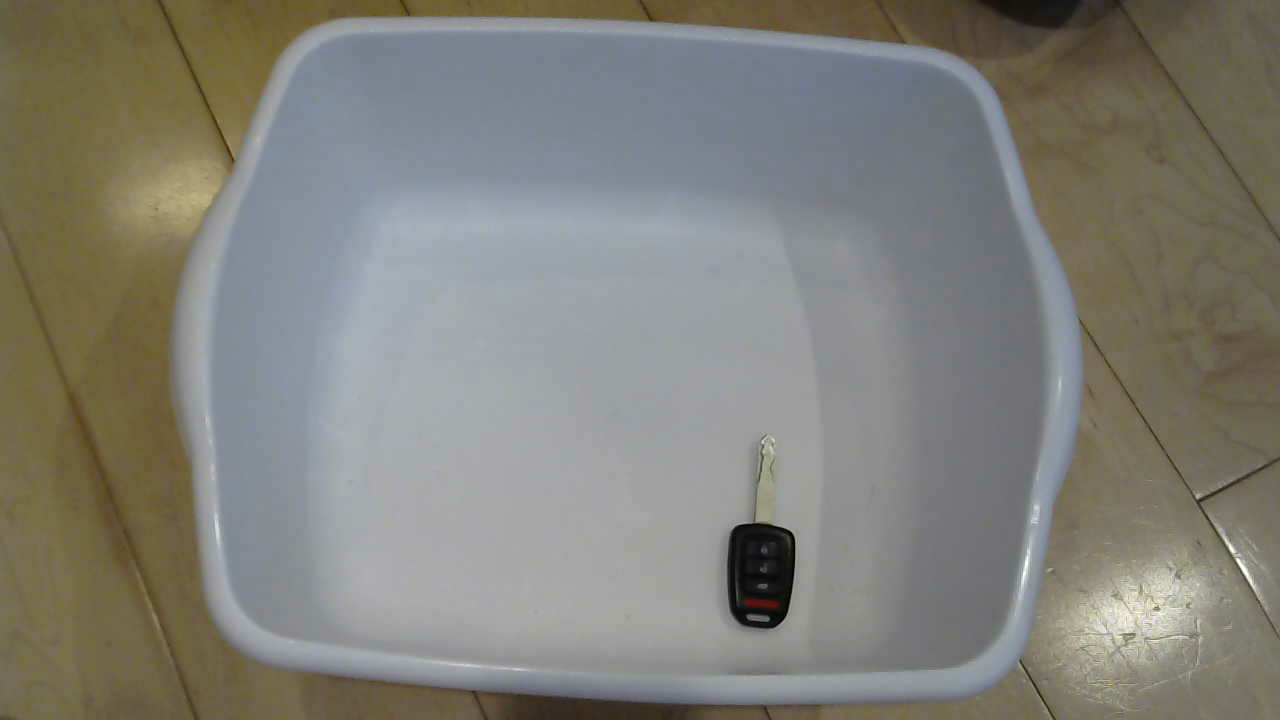key: (688, 435, 842, 640)
